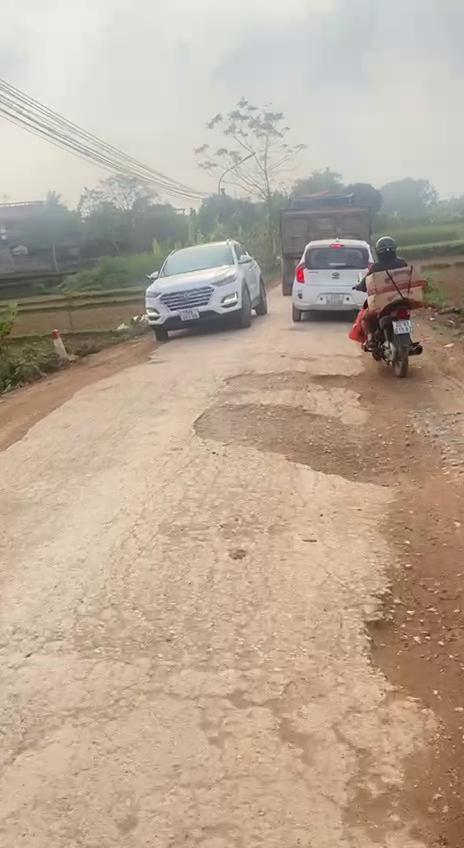pothole: (255, 690, 464, 848), (351, 554, 464, 717), (188, 403, 399, 488), (221, 369, 369, 399)
